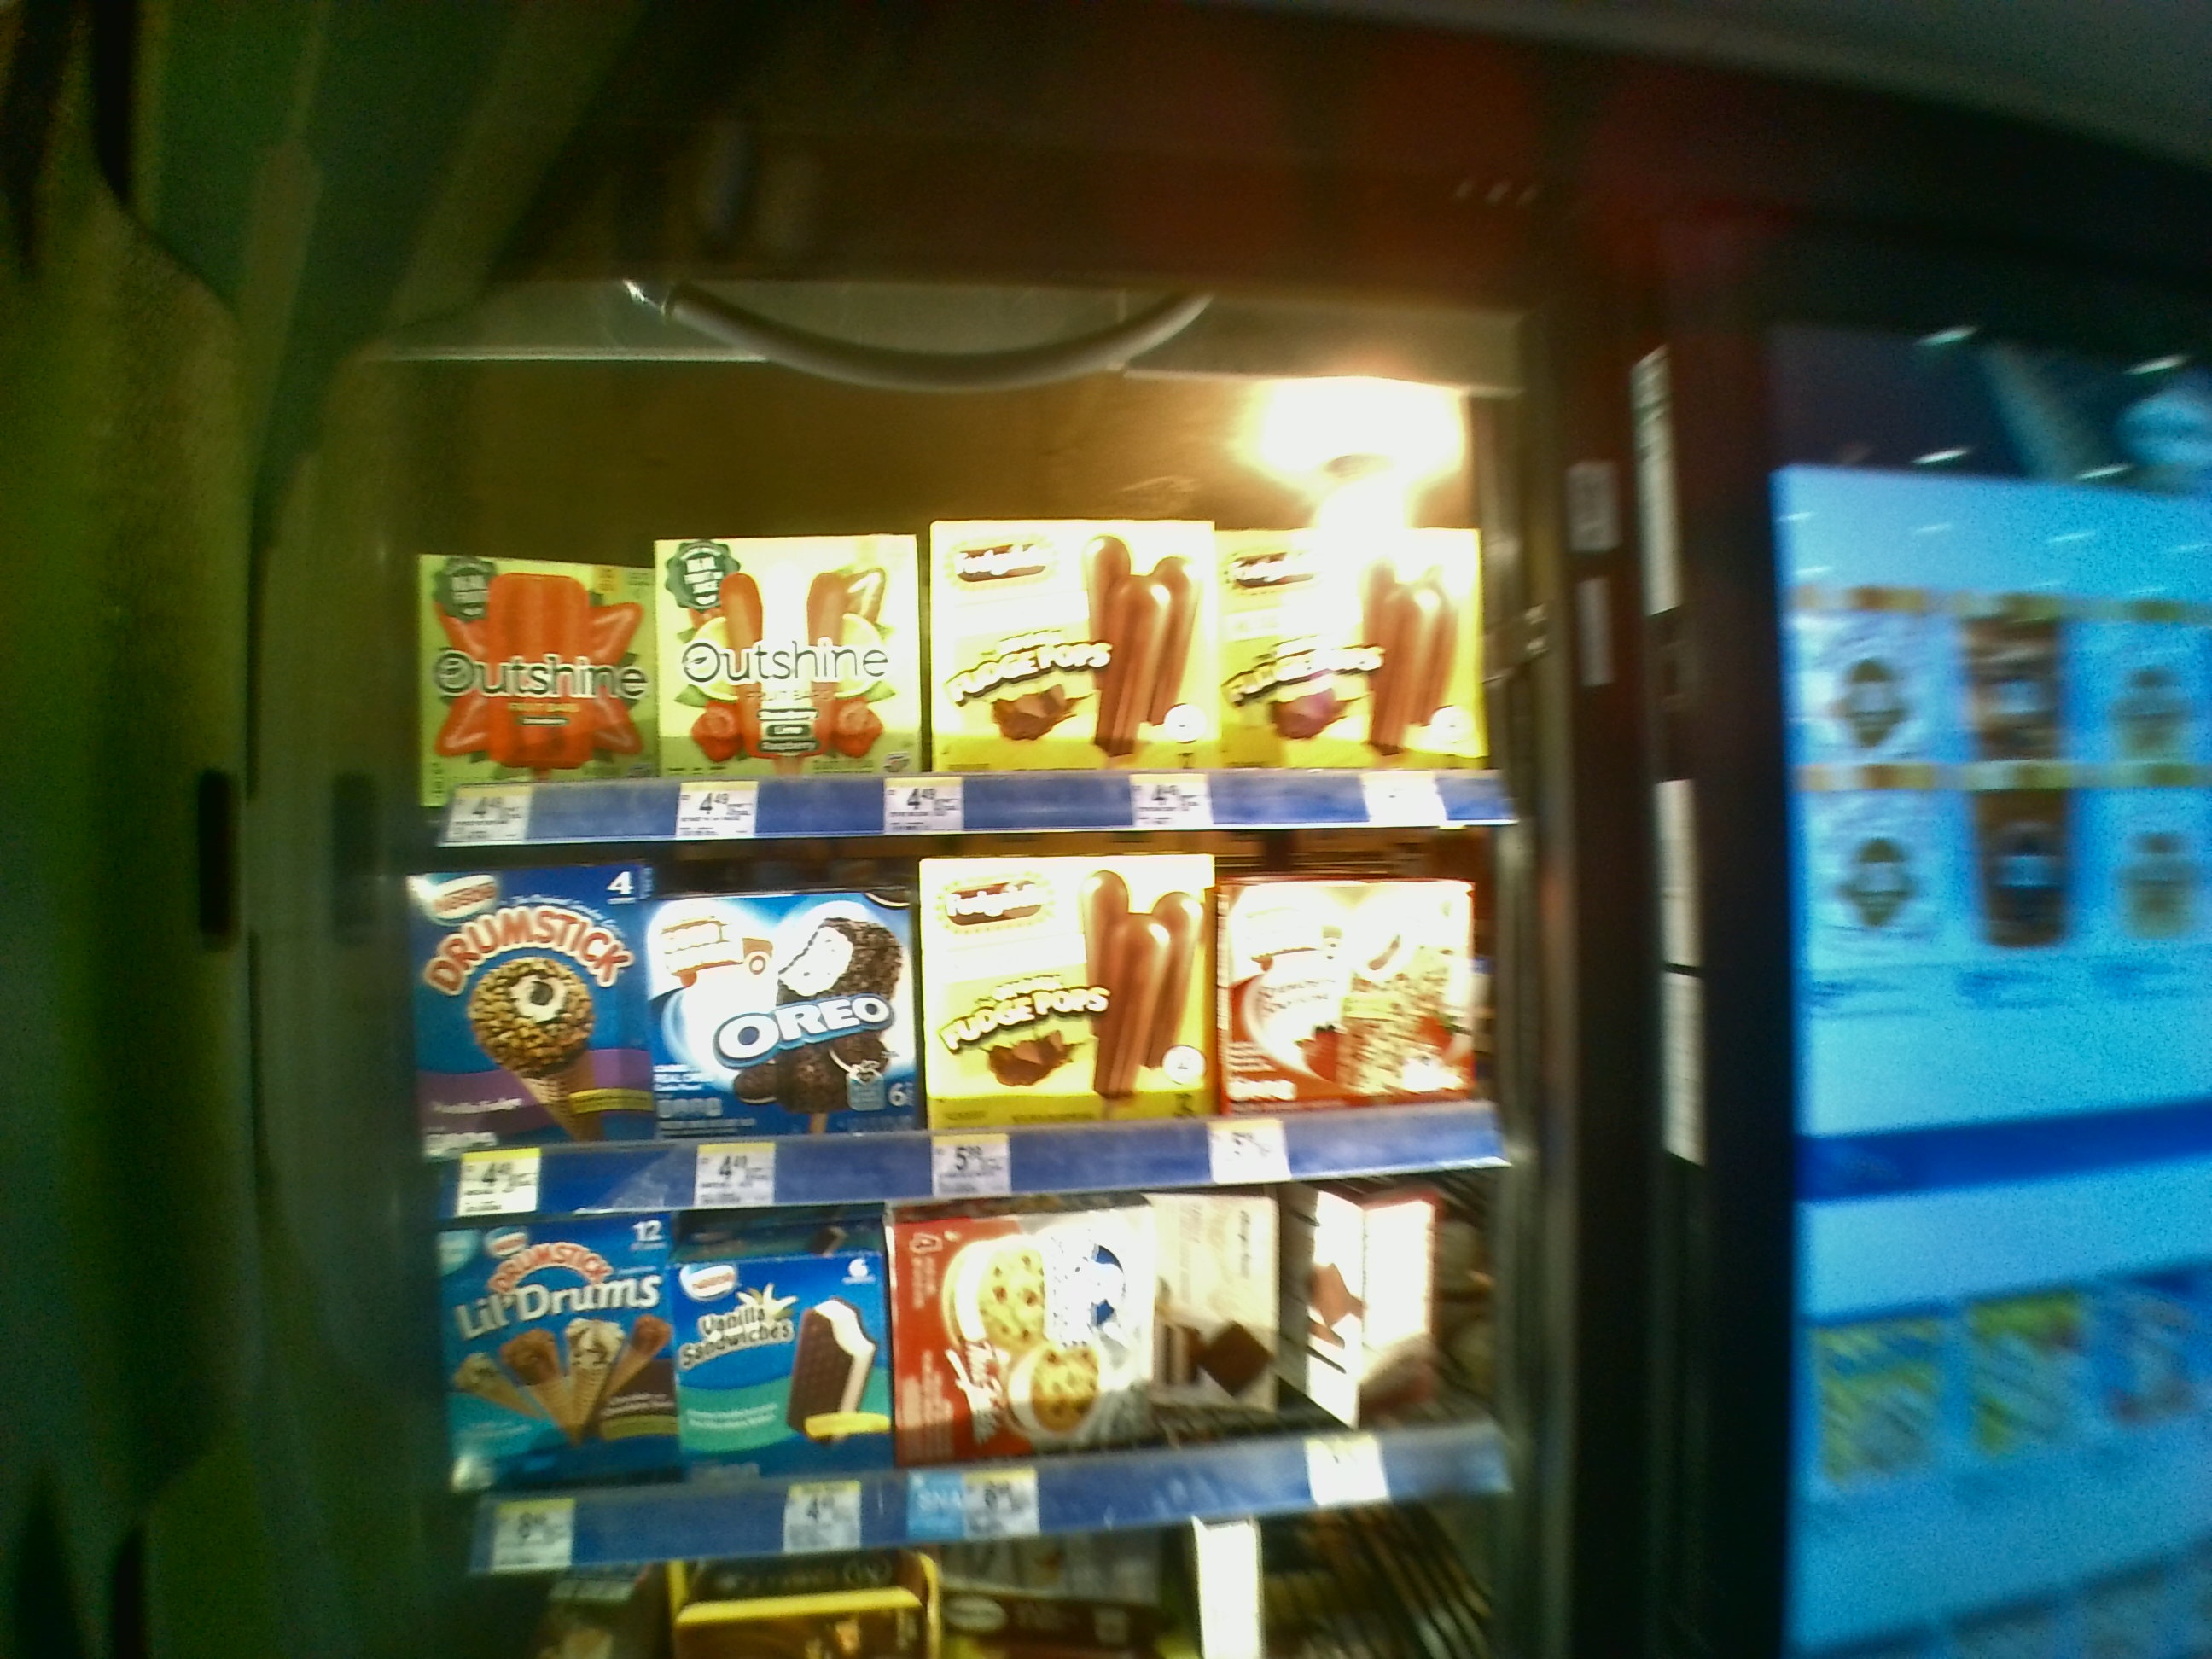shelf: (404, 404, 1498, 849), (425, 1225, 1496, 1595), (404, 868, 1508, 1202)
